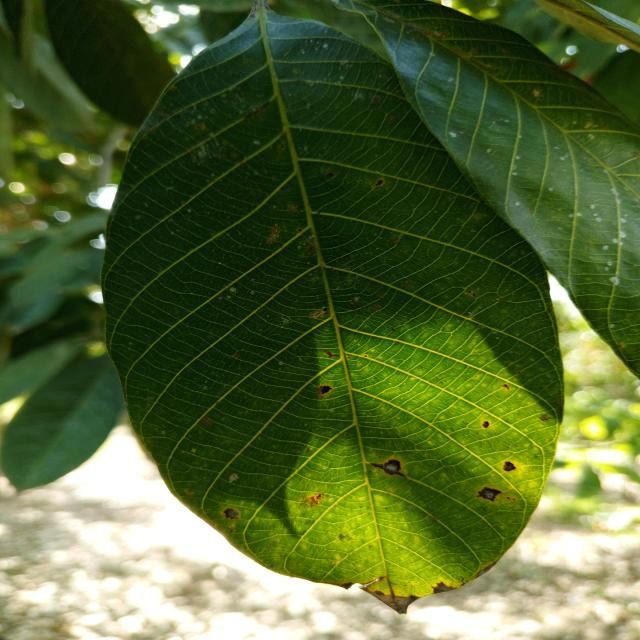Colletotrichum: (479, 487, 496, 501), (223, 508, 239, 519), (504, 461, 516, 472), (321, 384, 332, 394)
